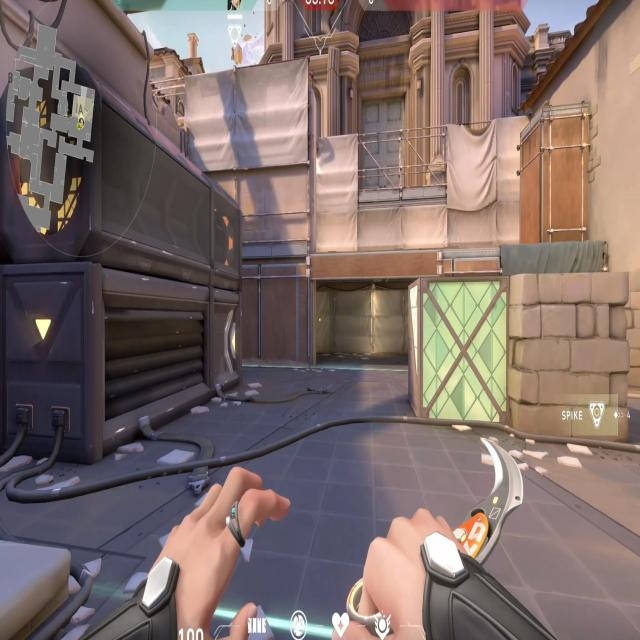A_Heaven_Box: (520, 98, 592, 245)
A_Heaven_Wall: (182, 65, 318, 259)
A_Hell: (308, 261, 439, 379)
A_Site_Box: (404, 269, 632, 458)
